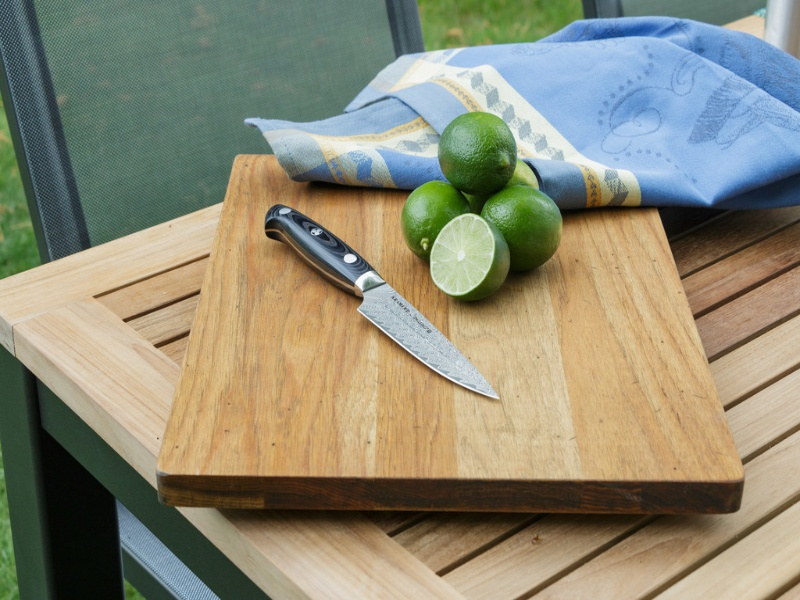knife: (264, 200, 505, 404)
